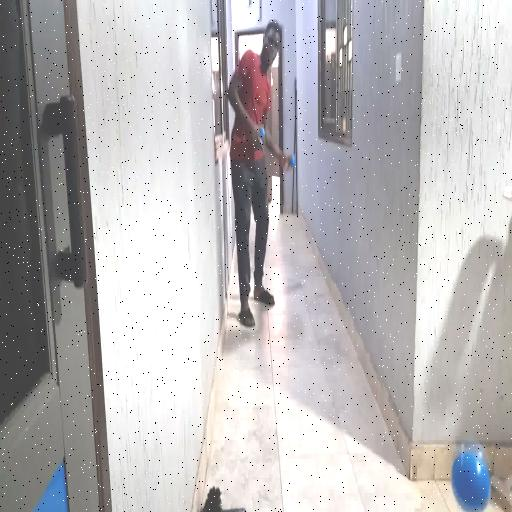plastic-ball: (449, 448, 493, 512)
